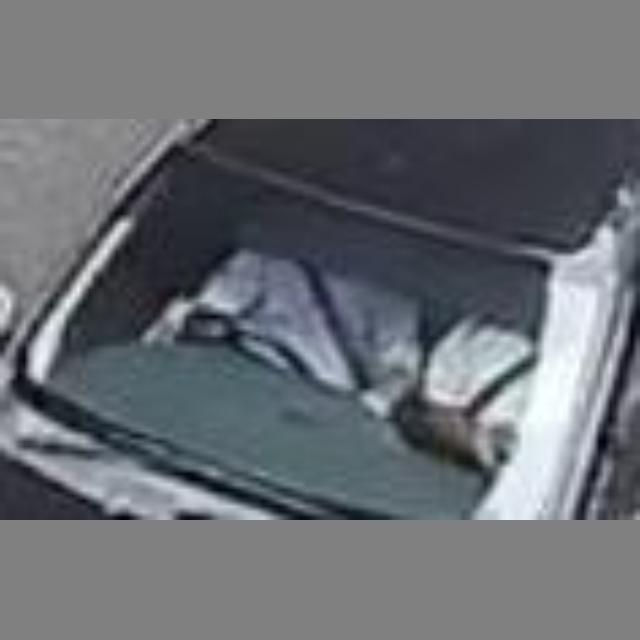pakai: (157, 222, 380, 412), (407, 282, 553, 455)
